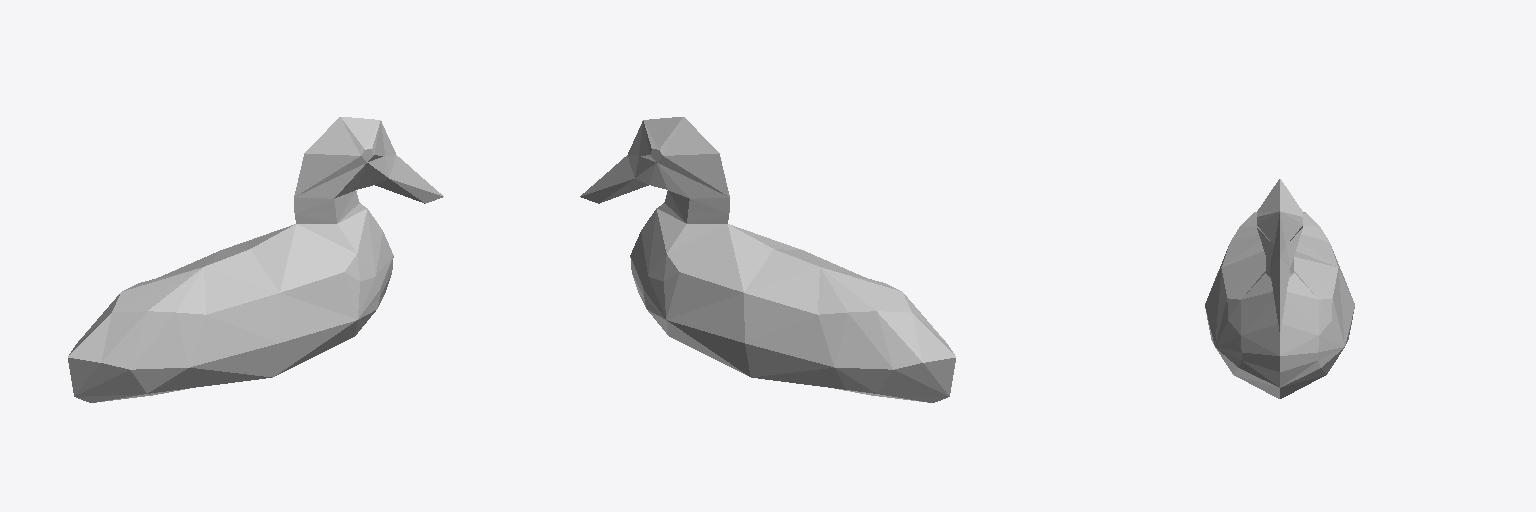
Rendered from duck.obj.
3 renders of one model, left to right at view 1: azimuth 30°, elevation 25°; view 2: azimuth 150°, elevation 25°; view 3: azimuth 270°, elevation 25°, orthographic.
Visible parts, largest first — view 1: Cube_Cube.001; view 2: Cube_Cube.001; view 3: Cube_Cube.001.
Part boxes in pixels (x1,y1,x2,y2): Cube_Cube.001: (68, 117, 443, 402); Cube_Cube.001: (580, 117, 955, 402); Cube_Cube.001: (1205, 179, 1354, 398).
Bounding box in the file's own units: 1.34 × 0.812 × 0.4652.